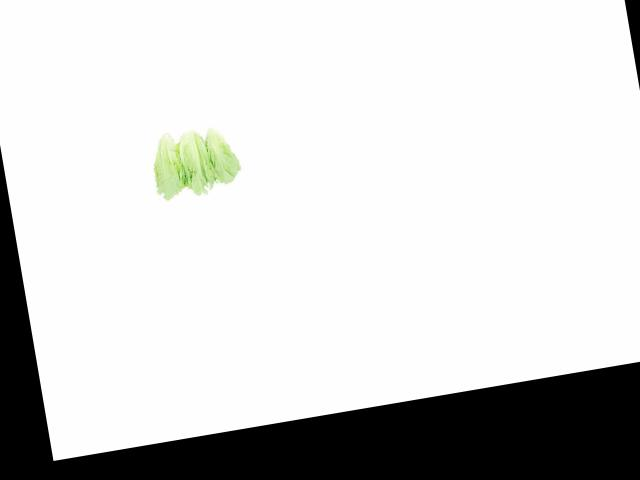lettuce: (196, 109, 244, 189)
